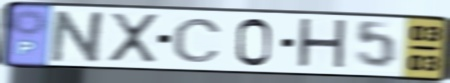0: (235, 16, 273, 68)
5: (354, 19, 402, 74)
C: (170, 17, 225, 65)
H: (294, 16, 349, 73)
N: (47, 9, 111, 65)
X: (107, 11, 161, 65)
